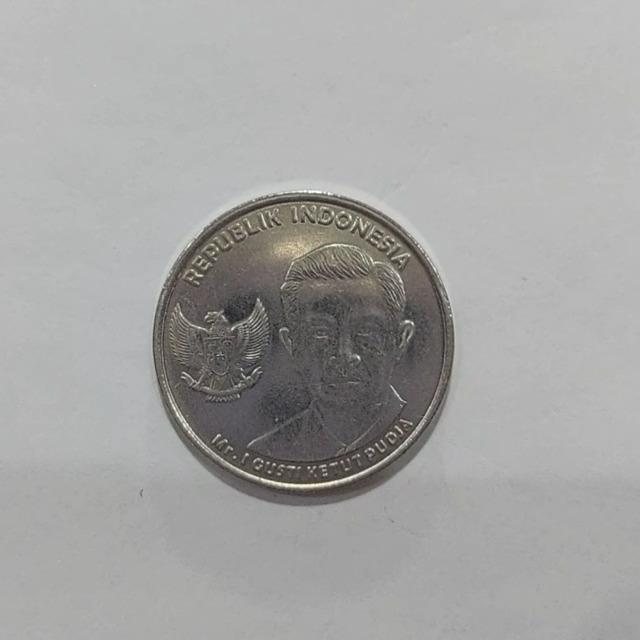Rp100: (151, 187, 456, 501), (240, 239, 418, 463), (163, 291, 274, 403)
